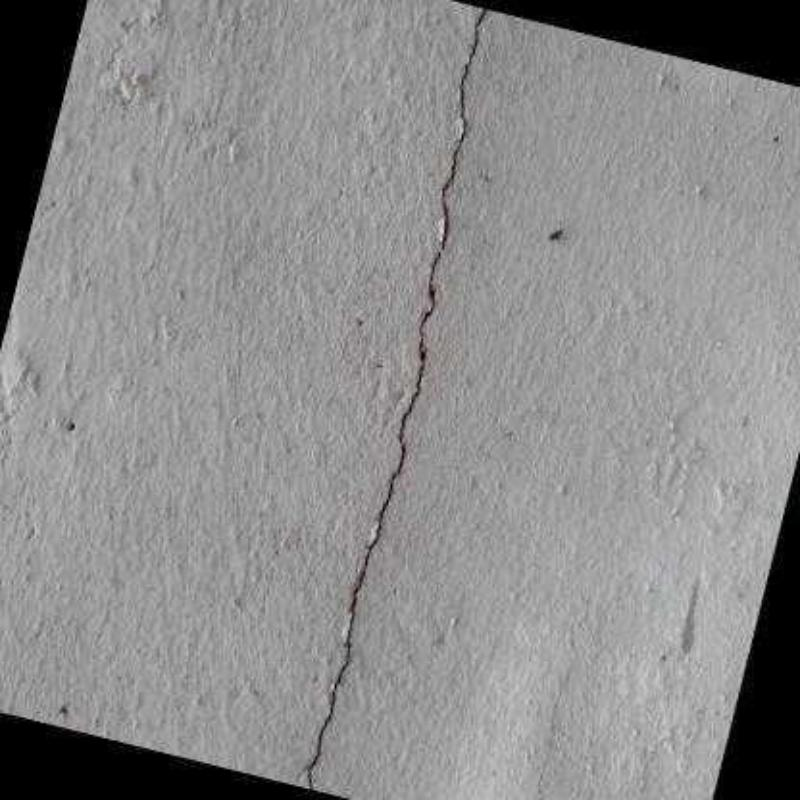pothole: (307, 10, 488, 791)
